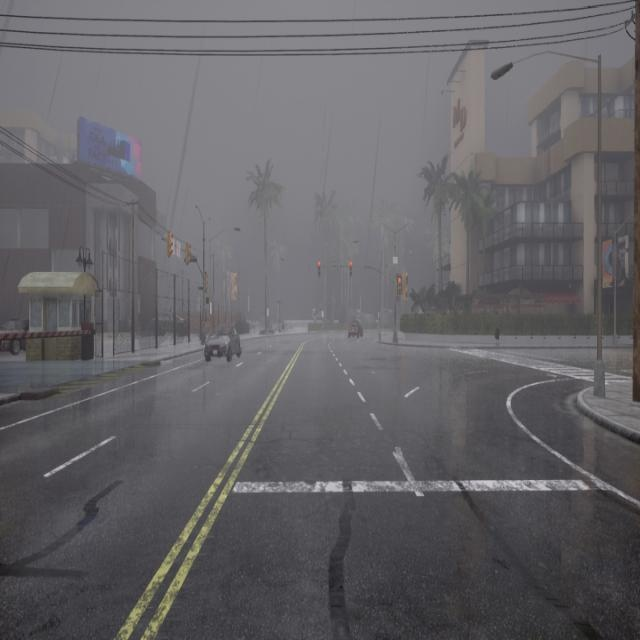bien_chi_dan: (204, 271, 210, 297), (185, 242, 192, 264), (168, 232, 174, 257), (346, 259, 354, 276), (315, 259, 322, 276), (397, 274, 401, 296), (314, 257, 322, 268), (346, 260, 354, 268), (168, 232, 174, 242), (396, 275, 401, 283), (185, 245, 191, 250), (206, 270, 208, 280), (398, 276, 399, 276)
